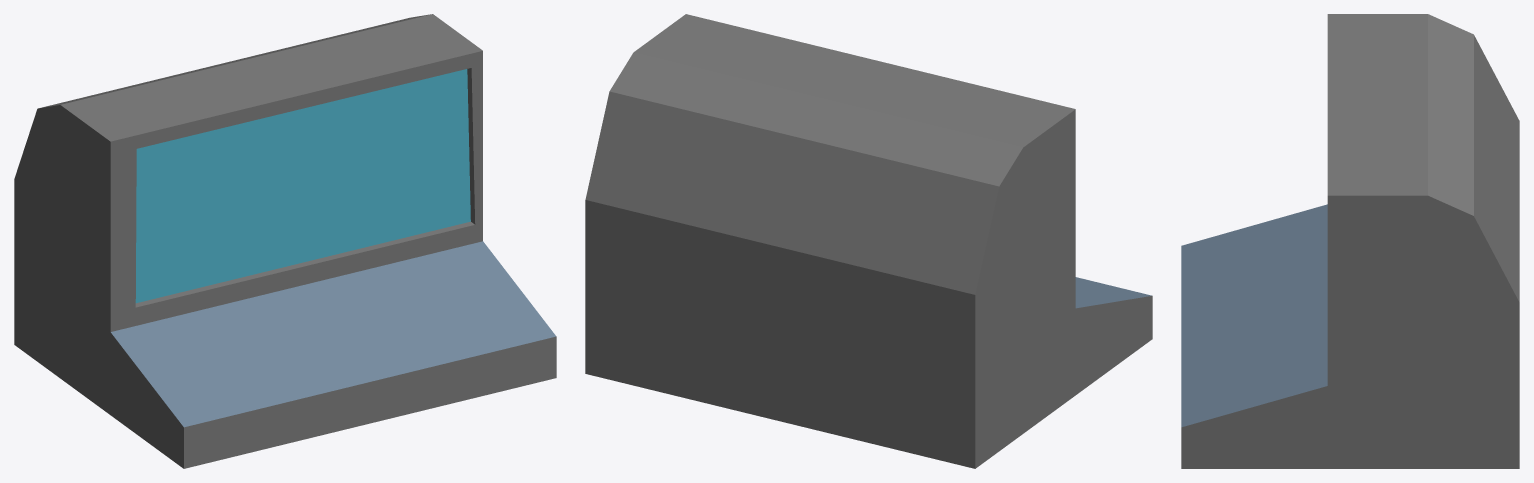
File: computer.fbx
3 renders of one model, left to right at view 1: azimuth 30°, elevation 25°; view 2: azimuth 150°, elevation 25°; view 3: azimuth 270°, elevation 25°, orthographic. The views are drawn at different scales.
Visible parts, largest first — view 1: compluter; view 2: compluter; view 3: compluter.
Boxes of the visible parts, x1,y1,x2,y2 form: compluter: (14,14,556,468); compluter: (585,14,1152,468); compluter: (1181,14,1519,468).
Size of the model in its own units: 57.87 by 40.62 by 45.58.
